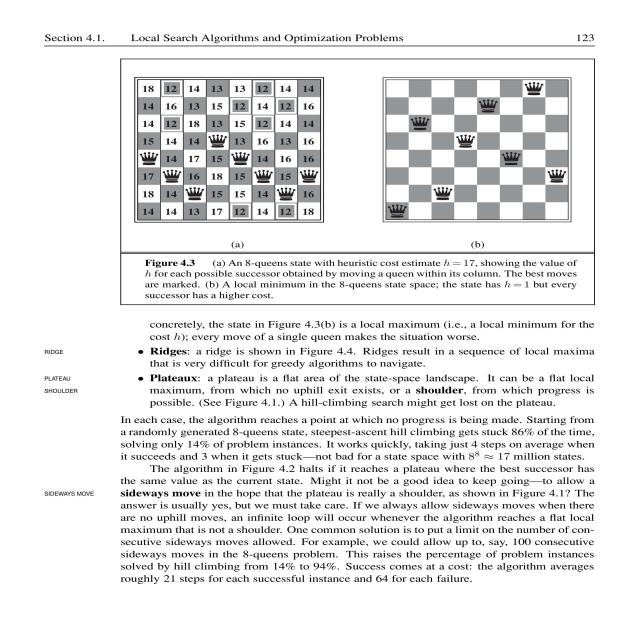diagram: (101, 60, 597, 303)
